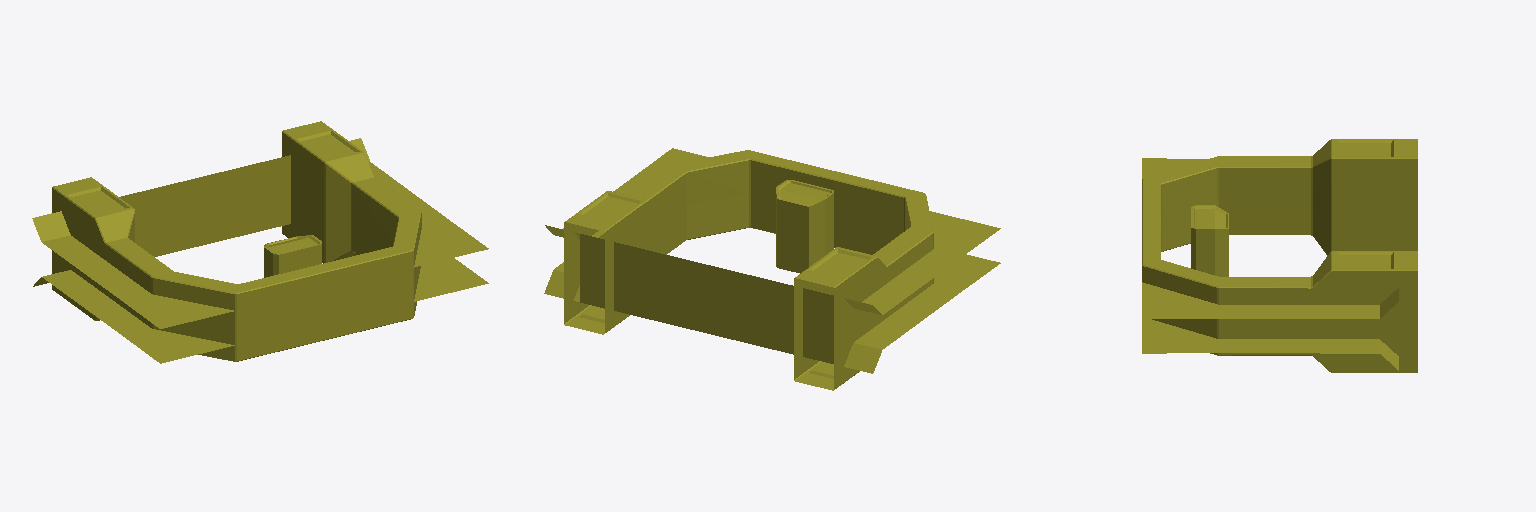
Rendered from DoorFrame-LM.obj.
The picture shows the model from 3 angles: view 1: azimuth 30°, elevation 25°; view 2: azimuth 150°, elevation 25°; view 3: azimuth 270°, elevation 25°; orthographic projection.
Visible parts, largest first — view 1: SM_FloorToWall_1_E005; view 2: SM_FloorToWall_1_E005; view 3: SM_FloorToWall_1_E005.
Part boxes in pixels (x1,y1,x2,y2): SM_FloorToWall_1_E005: (32, 121, 488, 363); SM_FloorToWall_1_E005: (544, 148, 1000, 390); SM_FloorToWall_1_E005: (1142, 139, 1417, 372).
Bounding box in the file's own units: 157 × 47.24 × 114.